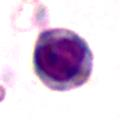lymphocyte: (28, 23, 98, 94)
